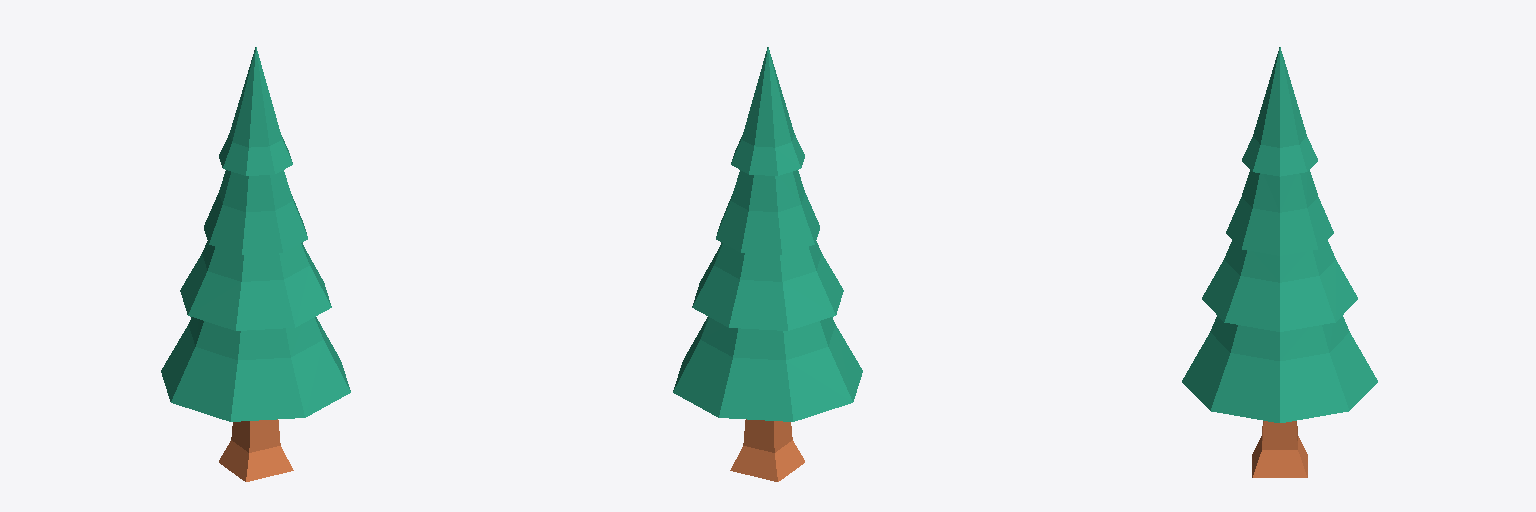
Rendered from tree.obj.
3 views of the same model, side by side, from view 1: azimuth 30°, elevation 25°; view 2: azimuth 150°, elevation 25°; view 3: azimuth 270°, elevation 25° (orthographic).
Visible parts, largest first — view 1: tree; view 2: tree; view 3: tree.
Part boxes in pixels (left/top/right/bottom): tree: left=161, top=47, right=350, bottom=481; tree: left=673, top=47, right=862, bottom=481; tree: left=1182, top=47, right=1377, bottom=477.
Size of the model in its own units: 1.02 by 2.41 by 1.02.